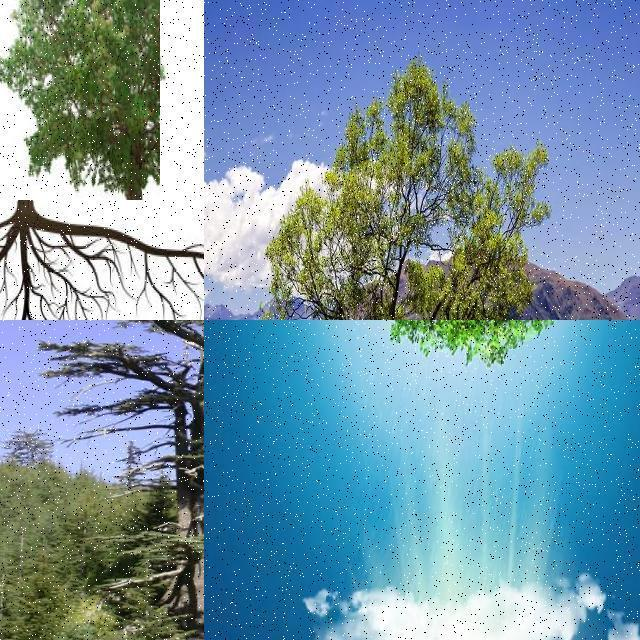tree: (262, 61, 606, 320), (336, 320, 572, 480), (0, 0, 160, 200), (46, 320, 204, 508), (0, 426, 54, 466)
